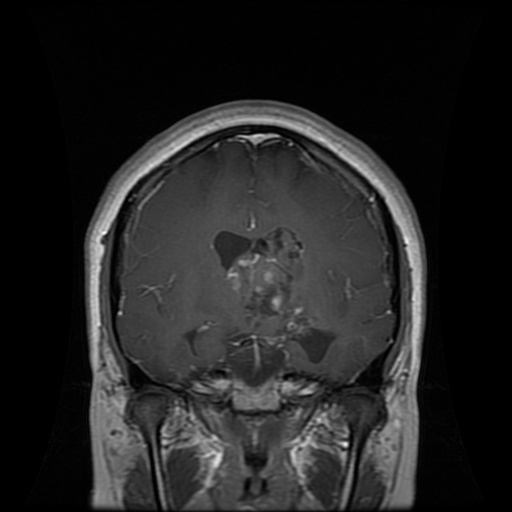glioma: (212, 224, 343, 364)
